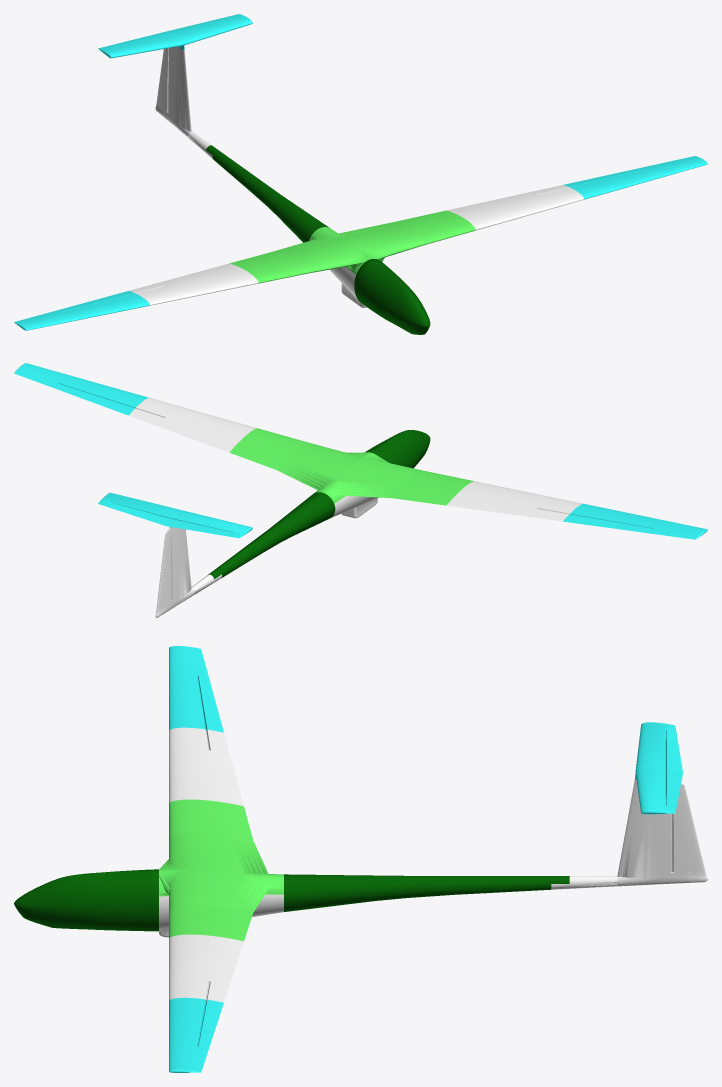
The picture shows the model from 3 angles, top to bottom: view 1: azimuth 30°, elevation 25°; view 2: azimuth 150°, elevation 25°; view 3: azimuth 270°, elevation 25°; orthographic projection. The views are drawn at different scales.
Parts seen in each view (by area): view 1: Mesh5 Difference1_1 Model, Mesh13 Difference1_3 Model, Mesh1 Group1 Model, Mesh6 Intersection1 Model, Mesh3 Intersection Model, Mesh10 Union Model, Mesh7 Difference1_2 Model, Mesh4 Difference1 Model, Mesh2 Difference2 Model, Mesh8 Difference Model, Mesh9 Difference12 Model, Mesh14 Union2 Model (+1 smaller); view 2: Mesh5 Difference1_1 Model, Mesh13 Difference1_3 Model, Mesh6 Intersection1 Model, Mesh3 Intersection Model, Mesh10 Union Model, Mesh7 Difference1_2 Model, Mesh4 Difference1 Model, Mesh2 Difference2 Model, Mesh1 Group1 Model, Mesh9 Difference12 Model, Mesh8 Difference Model, Mesh14 Union2 Model (+1 smaller); view 3: Mesh1 Group1 Model, Mesh13 Difference1_3 Model, Mesh10 Union Model, Mesh5 Difference1_1 Model, Mesh2 Difference2 Model, Mesh3 Intersection Model, Mesh6 Intersection1 Model, Mesh4 Difference1 Model, Mesh7 Difference1_2 Model, Mesh8 Difference Model, Mesh9 Difference12 Model, Mesh11 Difference2_1 Model (+1 smaller).
Boxes of the visible parts, x1,y1,x2,y2 form: Mesh5 Difference1_1 Model: (229,227,370,283); Mesh13 Difference1_3 Model: (322,210,475,261); Mesh1 Group1 Model: (354,259,430,334); Mesh6 Intersection1 Model: (446,185,584,230); Mesh3 Intersection Model: (129,263,258,305); Mesh10 Union Model: (155,46,211,149); Mesh7 Difference1_2 Model: (563,156,707,199); Mesh4 Difference1 Model: (14,291,149,330); Mesh2 Difference2 Model: (240,172,329,242); Mesh8 Difference Model: (98,31,184,58); Mesh9 Difference12 Model: (166,14,252,49); Mesh14 Union2 Model: (309,239,366,307); Mesh5 Difference1_1 Model: (322,452,473,505); Mesh13 Difference1_3 Model: (229,428,370,493); Mesh6 Intersection1 Model: (129,397,256,452); Mesh3 Intersection Model: (446,481,582,521); Mesh10 Union Model: (155,527,214,617); Mesh7 Difference1_2 Model: (14,363,148,415); Mesh4 Difference1 Model: (563,503,707,539); Mesh2 Difference2 Model: (243,492,335,559); Mesh1 Group1 Model: (365,430,430,468); Mesh9 Difference12 Model: (98,492,182,527); Mesh8 Difference Model: (166,510,252,538); Mesh14 Union2 Model: (331,495,378,518); Mesh1 Group1 Model: (14,869,158,931); Mesh13 Difference1_3 Model: (159,868,283,941); Mesh10 Union Model: (569,779,707,883); Mesh5 Difference1_1 Model: (159,799,283,876); Mesh2 Difference2 Model: (284,874,476,911); Mesh3 Intersection Model: (169,727,243,806); Mesh6 Intersection1 Model: (169,934,243,1002); Mesh4 Difference1 Model: (169,646,223,732); Mesh7 Difference1_2 Model: (169,997,223,1072); Mesh8 Difference Model: (635,722,682,772); Mesh9 Difference12 Model: (635,768,682,814); Mesh11 Difference2_1 Model: (476,876,569,893).
Bounding box in the file's own units: 12.33 × 2.26 × 8.51.
